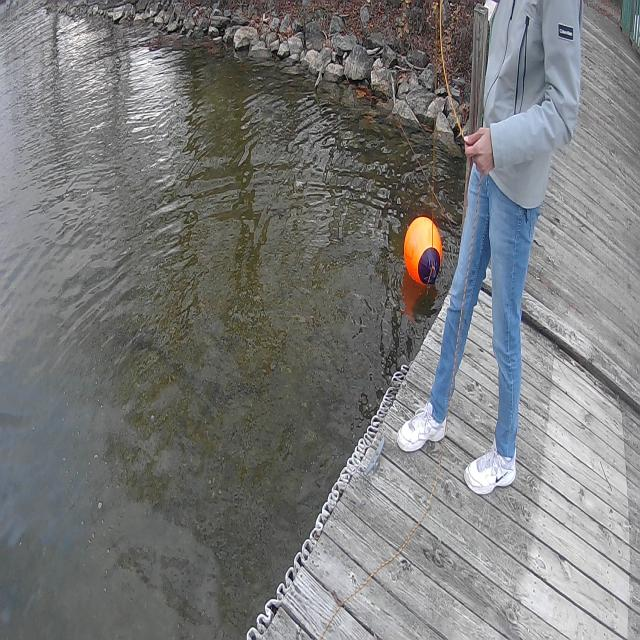Buoy: (402, 207, 446, 297)
